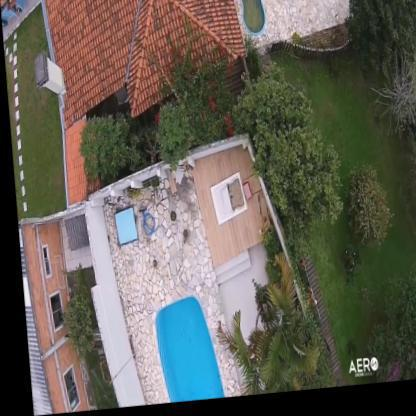agua: (237, 0, 266, 38)
